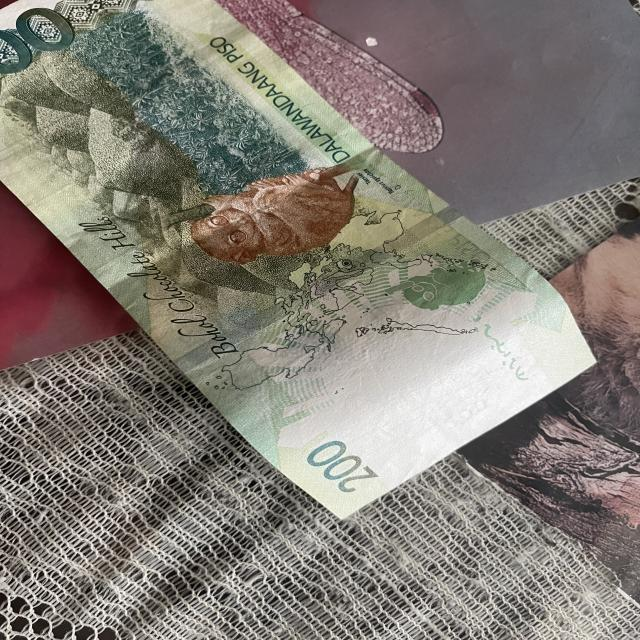200_tarsier: (175, 145, 389, 271)
200_tarsier_watermark: (378, 248, 497, 320)
